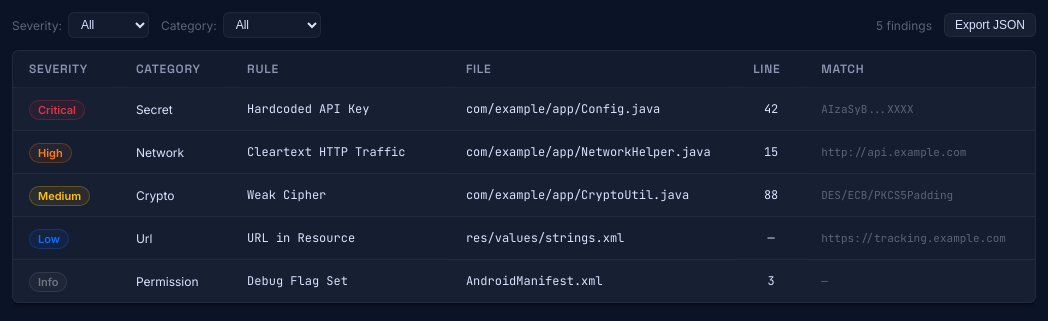
Test case: FindingsTable › filtering › shows empty state when filter matches nothing
Select "Critical" in the dropdown with test id "severity-filter": {"x": 108, "y": 25} [68, 12, 149, 38]
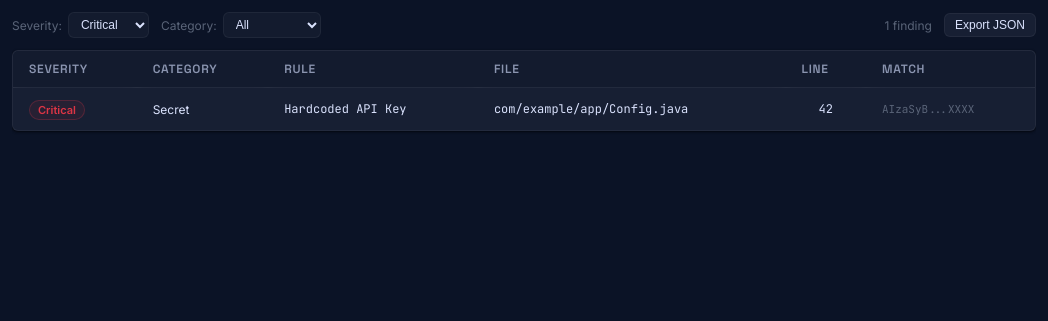
Select "Url" in the dropdown with test id "category-filter": {"x": 272, "y": 25} [223, 12, 321, 38]
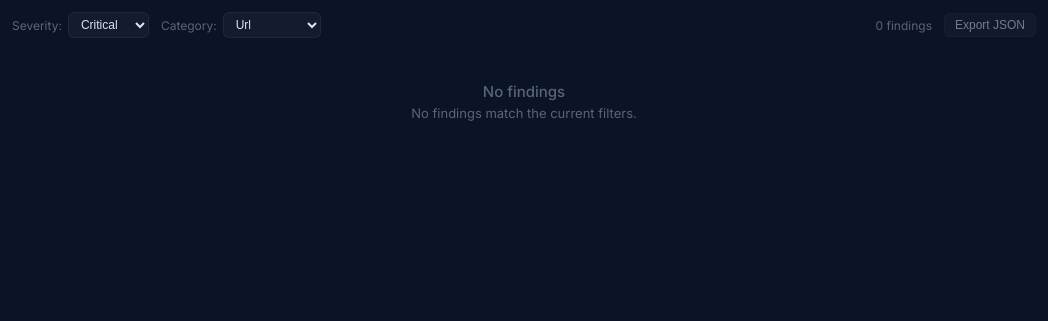
Expected: the element with test id "findings-empty" is shown, [411, 82, 637, 121]
